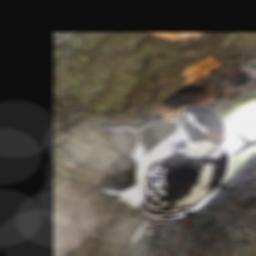Woodpecker: (101, 99, 228, 243)
